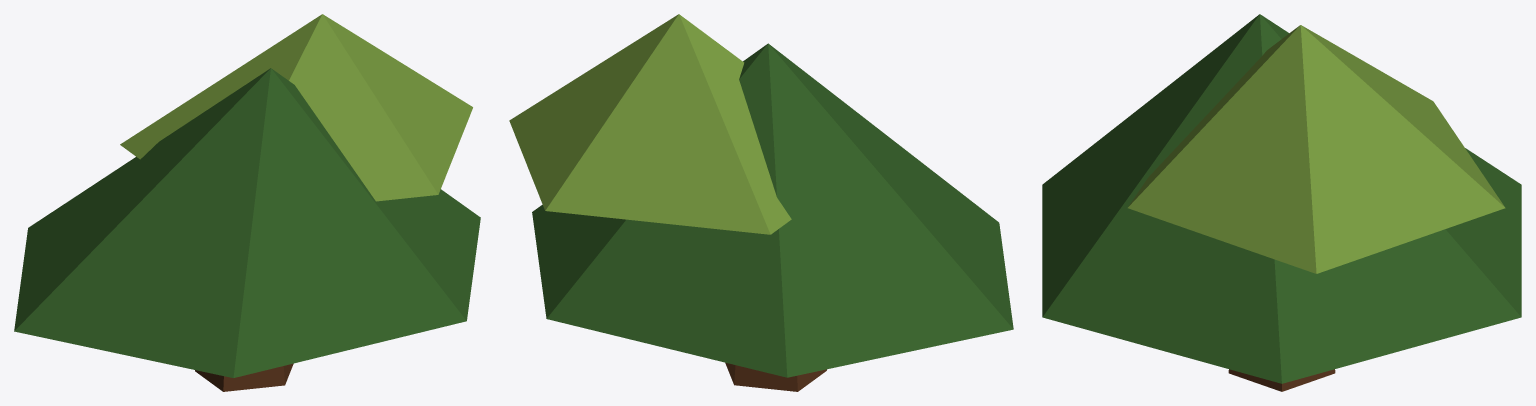
Rendered from TreeWide.fbx.
3 views of the same model, side by side, from view 1: azimuth 30°, elevation 25°; view 2: azimuth 150°, elevation 25°; view 3: azimuth 270°, elevation 25° (orthographic). The views are drawn at different scales.
Visible parts, largest first — view 1: TreeWide; view 2: TreeWide; view 3: TreeWide.
Part boxes in pixels (left/top/right/bottom): TreeWide: left=14, top=14, right=480, bottom=391; TreeWide: left=509, top=14, right=1013, bottom=391; TreeWide: left=1042, top=14, right=1521, bottom=391.
Size of the model in its own units: 81.25 by 54.4 by 60.97.
